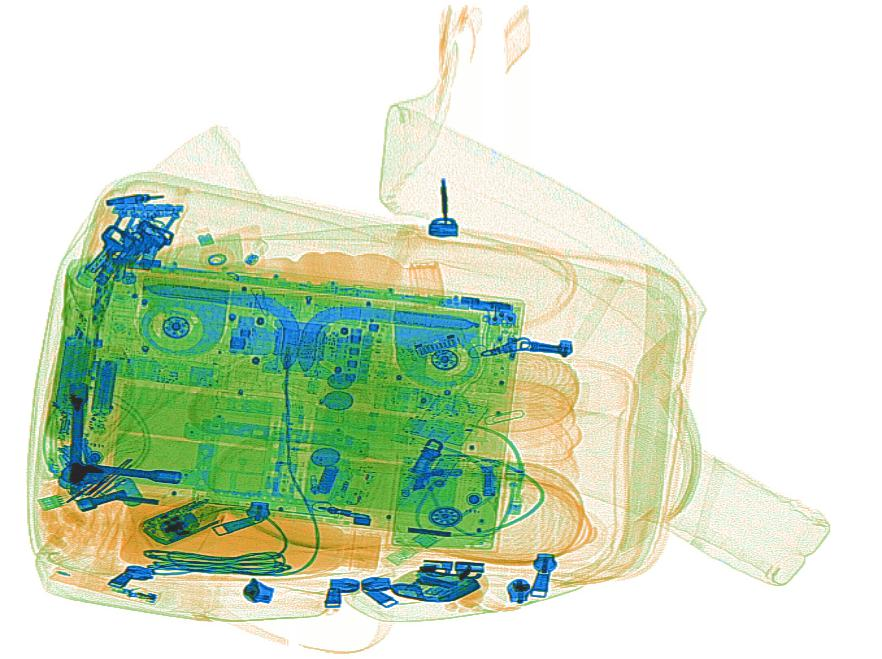USBFlashDisk: (379, 528, 442, 572)
battery: (52, 332, 96, 418), (91, 356, 118, 415)
lighter: (48, 564, 159, 607)
